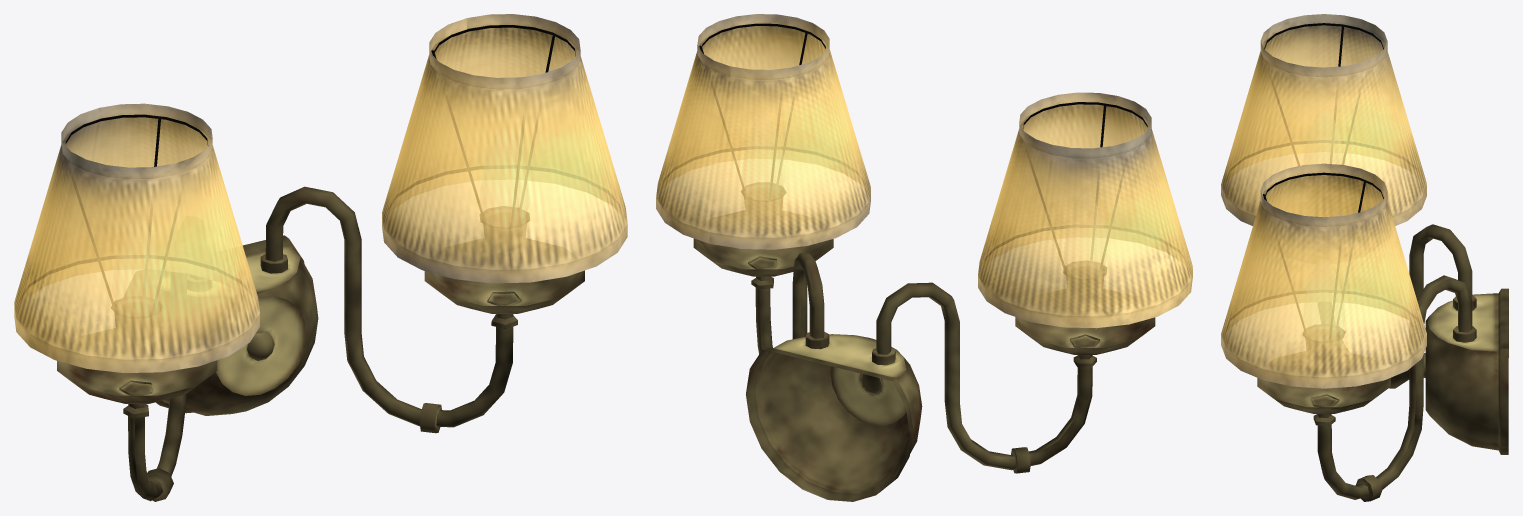
Rendered from wallLight.glb.
3 views of the same model, side by side, from view 1: azimuth 30°, elevation 25°; view 2: azimuth 150°, elevation 25°; view 3: azimuth 270°, elevation 25° (orthographic). The views are drawn at different scales.
Visible parts, largest first — view 1: WallLight; view 2: WallLight; view 3: WallLight.
Part boxes in pixels (x1,y1,x2,y2): WallLight: [14, 14, 627, 501]; WallLight: [656, 14, 1192, 501]; WallLight: [1221, 14, 1508, 501].
Bounding box in the file's own units: 96.99 × 63.37 × 49.85.
1 material, 1 textured.
